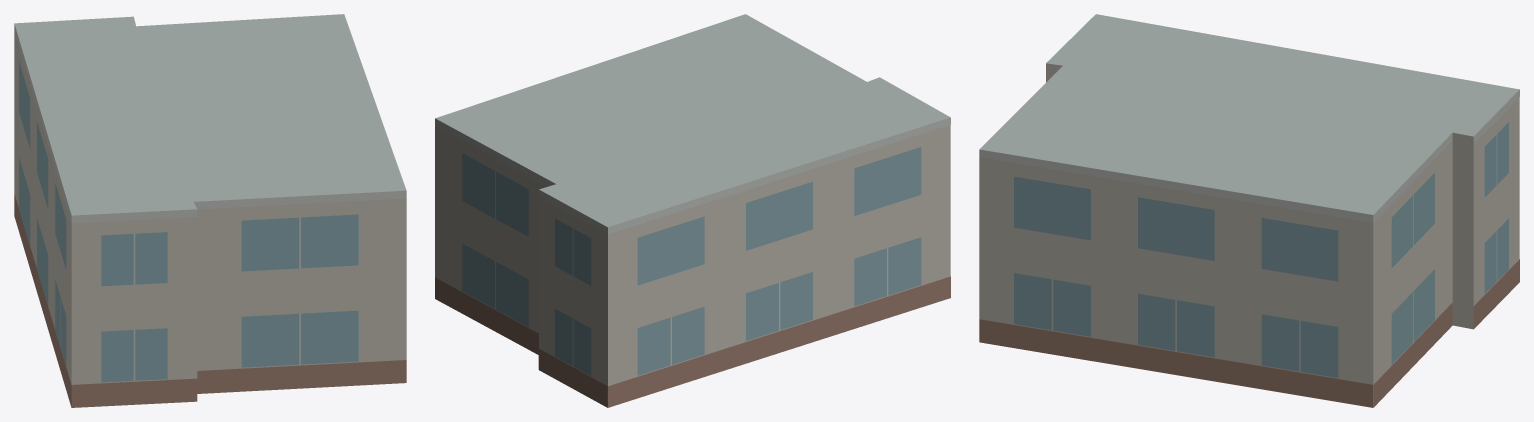
Rendered from survey-upis-32718732.glb.
The picture shows the model from 3 angles, left to right: view 1: azimuth 30°, elevation 25°; view 2: azimuth 150°, elevation 25°; view 3: azimuth 270°, elevation 25°; orthographic projection. The views are drawn at different scales.
Visible parts, largest first — view 1: survey-upis-32718732.tmp; view 2: survey-upis-32718732.tmp; view 3: survey-upis-32718732.tmp.
Boxes of the visible parts, bbox=[...] form: survey-upis-32718732.tmp: bbox=[14, 14, 406, 407]; survey-upis-32718732.tmp: bbox=[435, 14, 950, 407]; survey-upis-32718732.tmp: bbox=[979, 14, 1519, 407].
Bounding box in the file's own units: 13.65 × 6.1 × 15.51.
